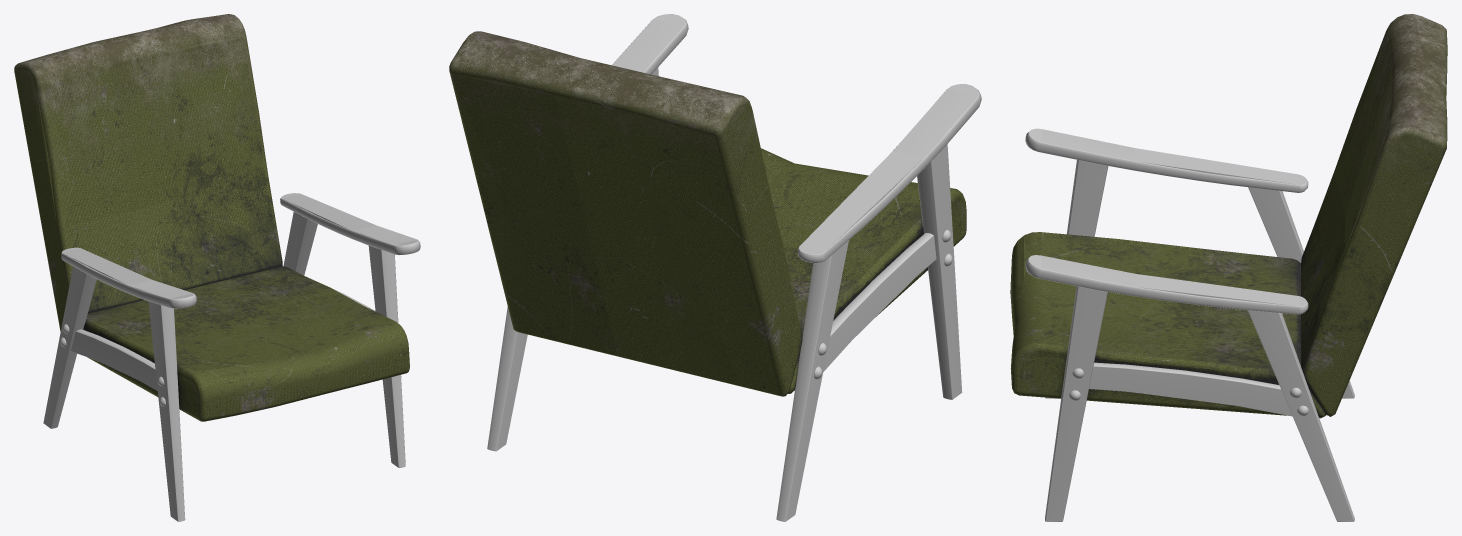
File: Armchair01.fbx
3 renders of one model, left to right at view 1: azimuth 30°, elevation 25°; view 2: azimuth 150°, elevation 25°; view 3: azimuth 270°, elevation 25°, orthographic. The views are drawn at different scales.
Parts seen in each view (by area): view 1: armchair01_Fabric (×2), armchair01_Wood1 (×3); view 2: armchair01_Fabric (×2), armchair01_Wood1 (×3); view 3: armchair01_Fabric (×2), armchair01_Wood1 (×3).
Part boxes in pixels (bbox=[...]): armchair01_Fabric (×2): bbox=[14, 14, 409, 421]; armchair01_Wood1 (×3): bbox=[43, 193, 420, 521]; armchair01_Fabric (×2): bbox=[449, 31, 966, 396]; armchair01_Wood1 (×3): bbox=[487, 14, 981, 521]; armchair01_Fabric (×2): bbox=[1010, 14, 1447, 418]; armchair01_Wood1 (×3): bbox=[1025, 128, 1354, 521].
Bounding box in the file's own units: 88.1 × 114 × 116.
